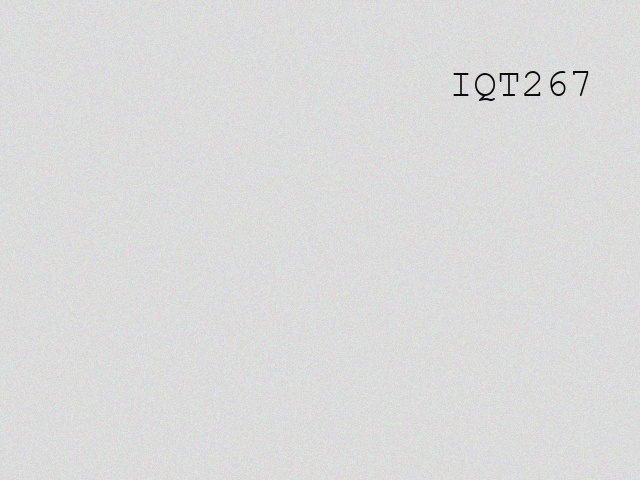OCR_AREA: (445, 67, 597, 105)
